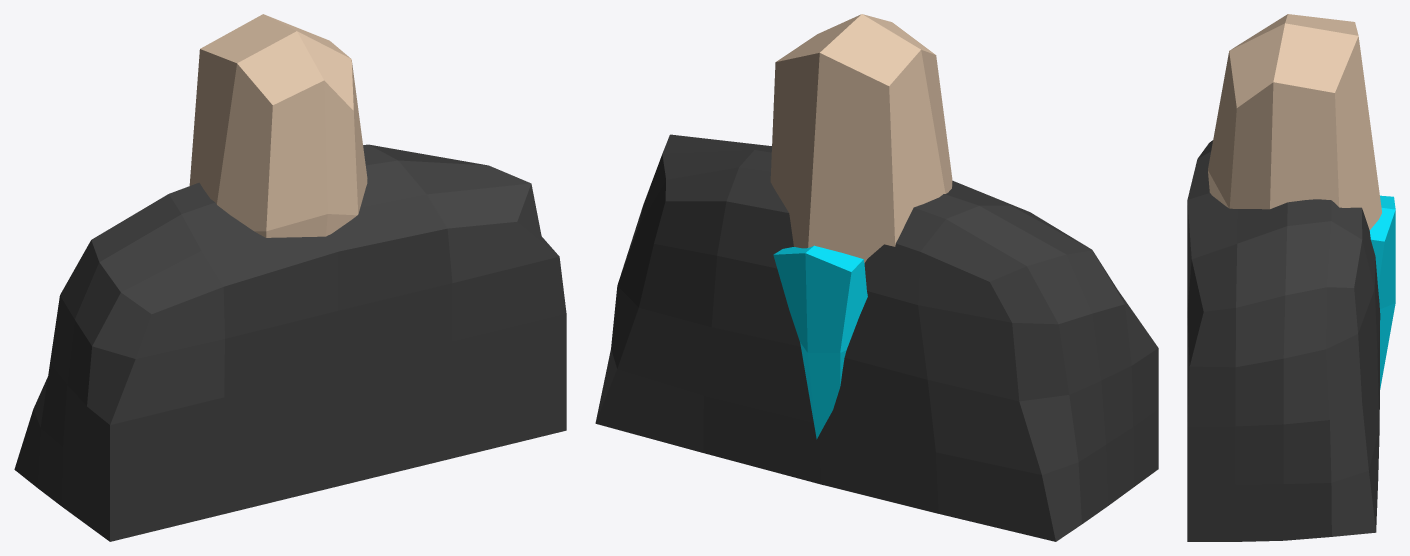
File: milei-body-copy.glb
The picture shows the model from 3 angles, left to right: view 1: azimuth 30°, elevation 25°; view 2: azimuth 150°, elevation 25°; view 3: azimuth 270°, elevation 25°; orthographic projection. The views are drawn at different scales.
Parts seen in each view (by area): view 1: suit.001, neck.001; view 2: suit.001, neck.001, tie.001; view 3: suit.001, neck.001, tie.001.
Boxes of the visible parts, bbox=[...] form: suit.001: bbox=[14, 144, 566, 541]; neck.001: bbox=[189, 14, 367, 237]; suit.001: bbox=[595, 134, 1158, 541]; neck.001: bbox=[770, 14, 952, 262]; tie.001: bbox=[773, 245, 867, 439]; suit.001: bbox=[1187, 140, 1380, 541]; neck.001: bbox=[1208, 14, 1381, 229]; tie.001: bbox=[1369, 195, 1395, 389].
Bounding box in the file's own units: 1.02 × 0.9006 × 0.4081.
